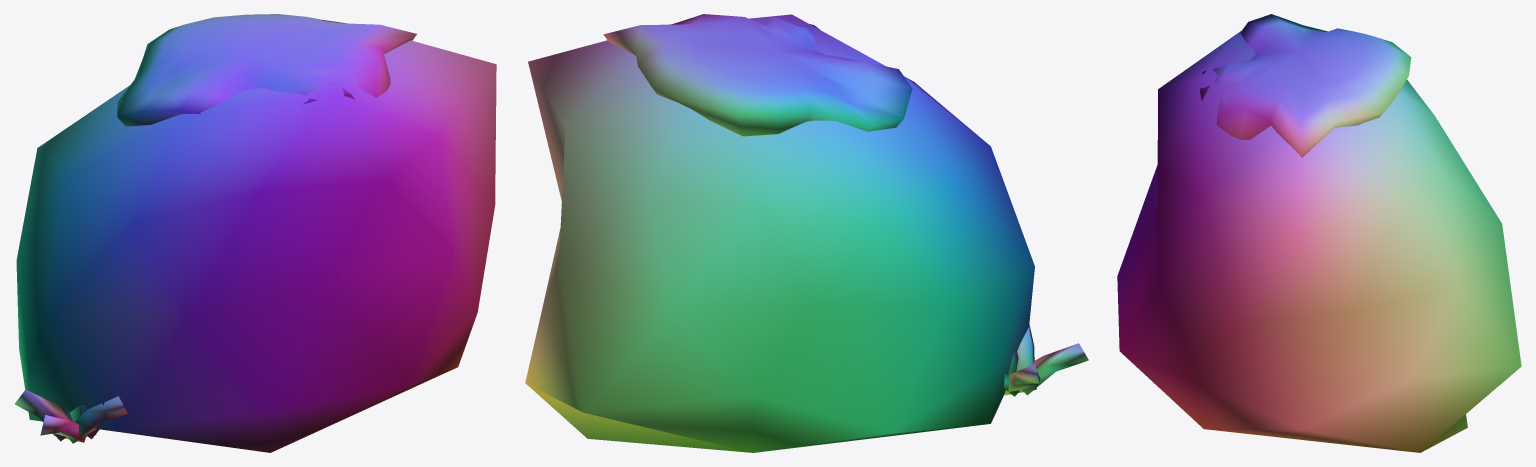
Rendered from SM_Prop_Lore_CarvedStone.fbx.
3 views of the same model, side by side, from view 1: azimuth 30°, elevation 25°; view 2: azimuth 150°, elevation 25°; view 3: azimuth 270°, elevation 25° (orthographic). The views are drawn at different scales.
Parts seen in each view (by area): view 1: SM_Prop_Lore_CarvedStone; view 2: SM_Prop_Lore_CarvedStone; view 3: SM_Prop_Lore_CarvedStone.
Boxes of the visible parts, x1,y1,x2,y2 form: SM_Prop_Lore_CarvedStone: [15, 14, 496, 452]; SM_Prop_Lore_CarvedStone: [525, 14, 1088, 452]; SM_Prop_Lore_CarvedStone: [1117, 14, 1521, 452].
Bounding box in the file's own units: 1.04 × 0.6821 × 0.7539.
